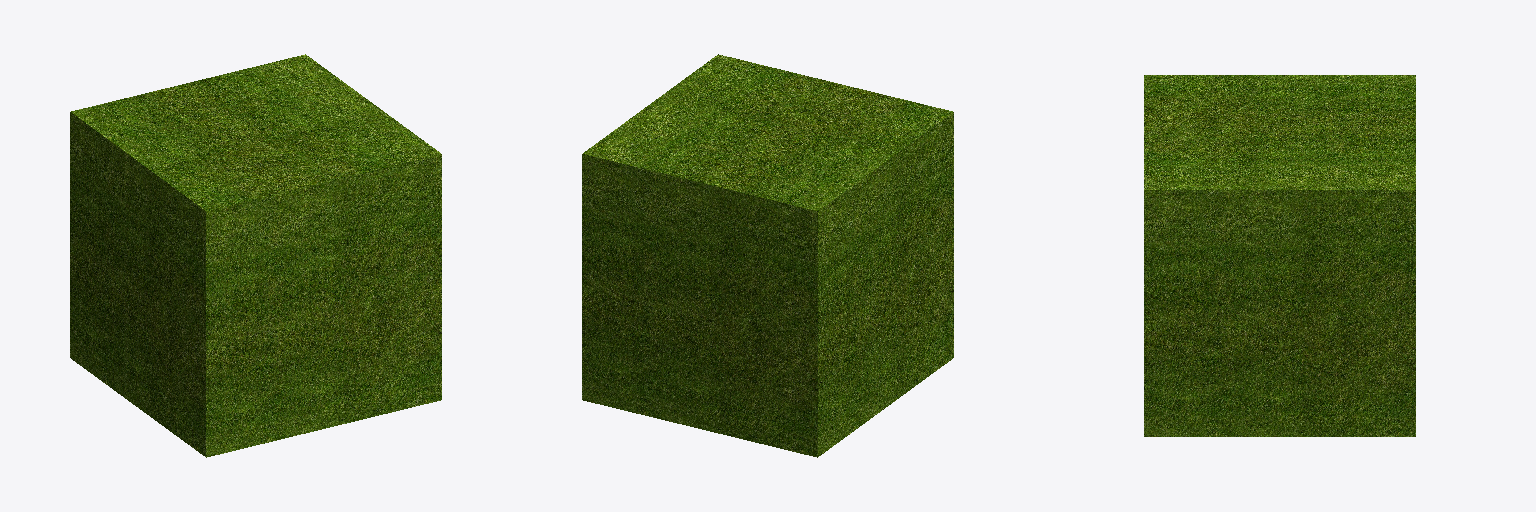
The picture shows the model from 3 angles: view 1: azimuth 30°, elevation 25°; view 2: azimuth 150°, elevation 25°; view 3: azimuth 270°, elevation 25°; orthographic projection.
Visible parts, largest first — view 1: cube; view 2: cube; view 3: cube.
Boxes of the visible parts, x1,y1,x2,y2 form: cube: [70, 54, 441, 457]; cube: [582, 54, 953, 457]; cube: [1144, 75, 1415, 436].
Bounding box in the file's own units: 2 × 2 × 2.
1 materials, 1 textured.